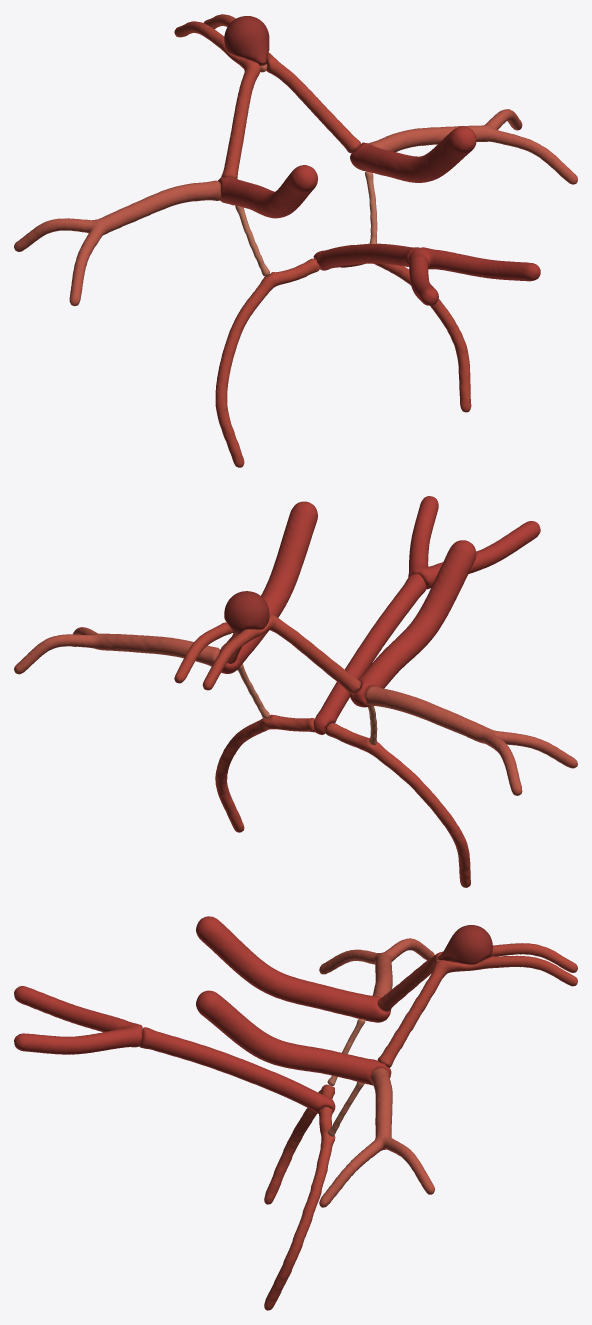
Rendered from willis_acom_aneurysm.glb.
3 views of the same model, one above another, from view 1: azimuth 30°, elevation 25°; view 2: azimuth 150°, elevation 25°; view 3: azimuth 270°, elevation 25° (orthographic). The views are drawn at different scales.
Visible parts, largest first — view 1: middle_cerebrals, internal_carotids, posterior_cerebrals, anterior_cerebrals, vertebral_arteries, basilar_artery, aneurysm, posterior_communicatings; view 2: internal_carotids, middle_cerebrals, posterior_cerebrals, anterior_cerebrals, basilar_artery, vertebral_arteries, aneurysm, posterior_communicatings; view 3: internal_carotids, middle_cerebrals, anterior_cerebrals, vertebral_arteries, basilar_artery, posterior_cerebrals, aneurysm, posterior_communicatings.
Part boxes in pixels (x1=…): middle_cerebrals: x1=14, y1=109, x2=577, y2=306; internal_carotids: x1=218, y1=126, x2=476, y2=218; posterior_cerebrals: x1=215, y1=258, x2=471, y2=467; anterior_cerebrals: x1=174, y1=14, x2=360, y2=178; vertebral_arteries: x1=408, y1=247, x2=540, y2=305; basilar_artery: x1=313, y1=243, x2=419, y2=270; aneurysm: x1=224, y1=16, x2=269, y2=65; posterior_communicatings: x1=235, y1=171, x2=377, y2=276; internal_carotids: x1=219, y1=501, x2=476, y2=707; middle_cerebrals: x1=14, y1=627, x2=577, y2=795; posterior_cerebrals: x1=215, y1=714, x2=470, y2=887; anterior_cerebrals: x1=174, y1=614, x2=360, y2=693; basilar_artery: x1=313, y1=573, x2=426, y2=734; vertebral_arteries: x1=408, y1=496, x2=540, y2=589; aneurysm: x1=224, y1=591, x2=269, y2=634; posterior_communicatings: x1=237, y1=664, x2=377, y2=745; internal_carotids: x1=196, y1=916, x2=391, y2=1085; middle_cerebrals: x1=319, y1=938, x2=434, y2=1207; anterior_cerebrals: x1=377, y1=943, x2=577, y2=1067; vertebral_arteries: x1=14, y1=986, x2=142, y2=1054; basilar_artery: x1=139, y1=1027, x2=335, y2=1113; posterior_cerebrals: x1=264, y1=1084, x2=335, y2=1310; aneurysm: x1=438, y1=925, x2=492, y2=964; posterior_communicatings: x1=327, y1=1018, x2=365, y2=1136.
Size of the model in its own units: 17.9 by 11.61 by 17.99.
